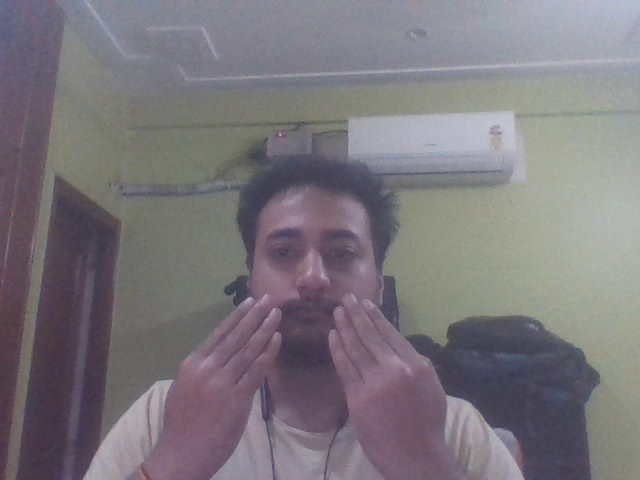Thanks: (118, 288, 500, 480)
